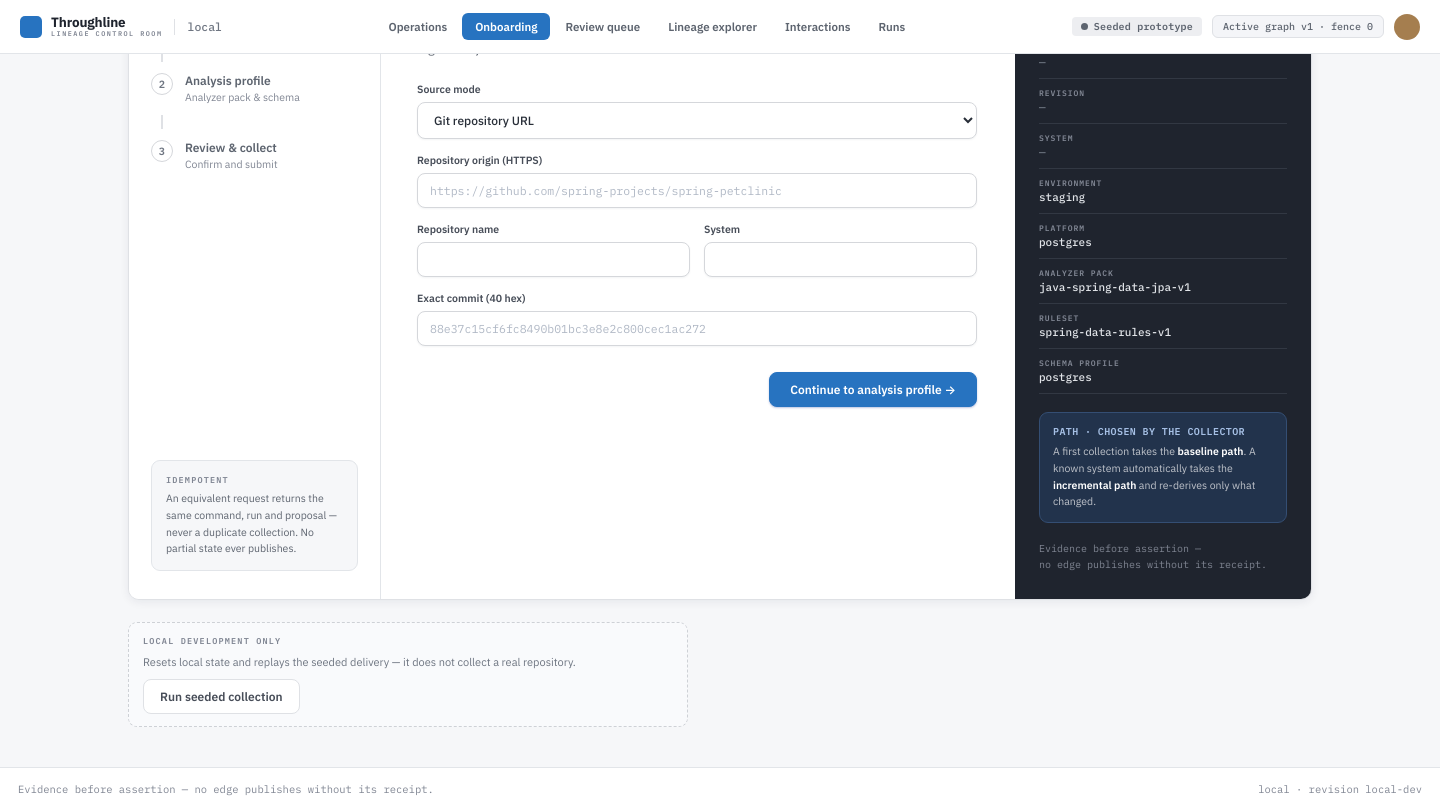
onboarding runs the signed seeded collection
(page scrolled)
Expected: the text "Local development only" is shown, [143,635,281,646]
Click the button "Run seeded collection" at (221, 696), box [143,679,300,714]
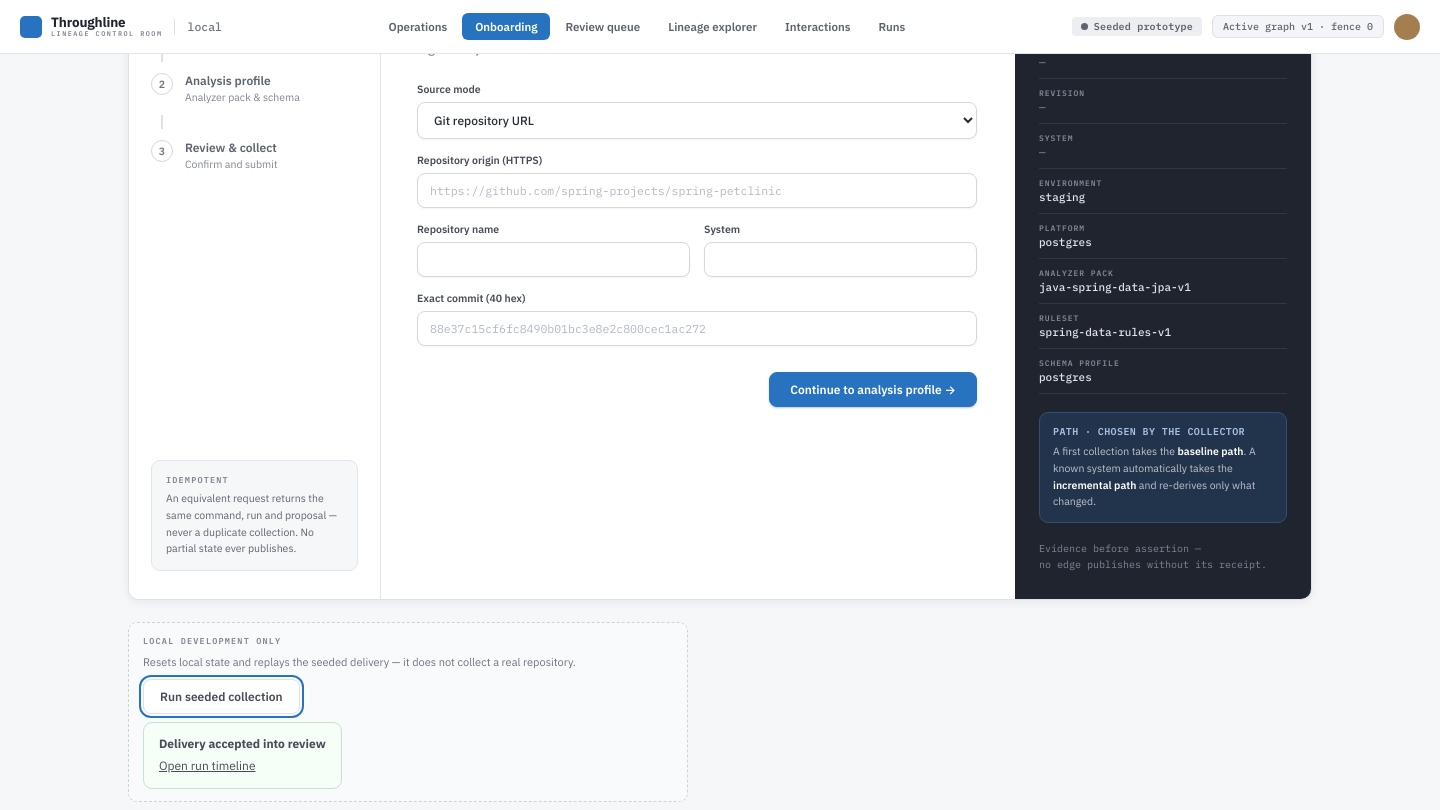
Now the text "Delivery accepted into review" is shown, box [159,735,326,753]
